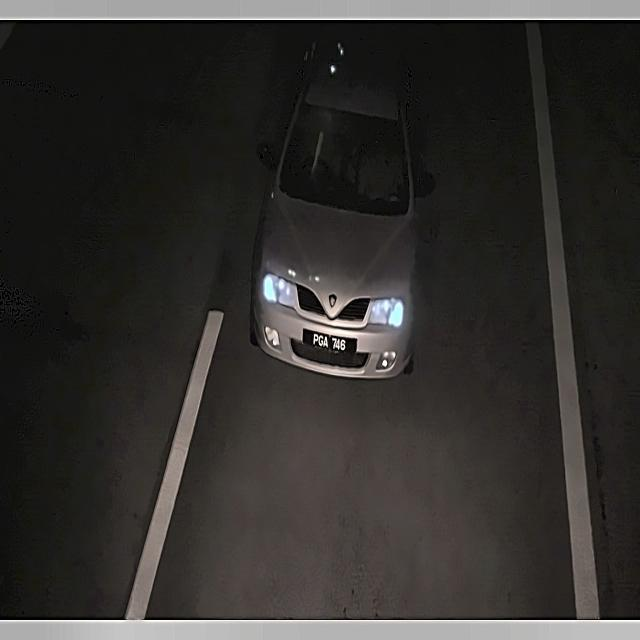car: (299, 320, 362, 363)
